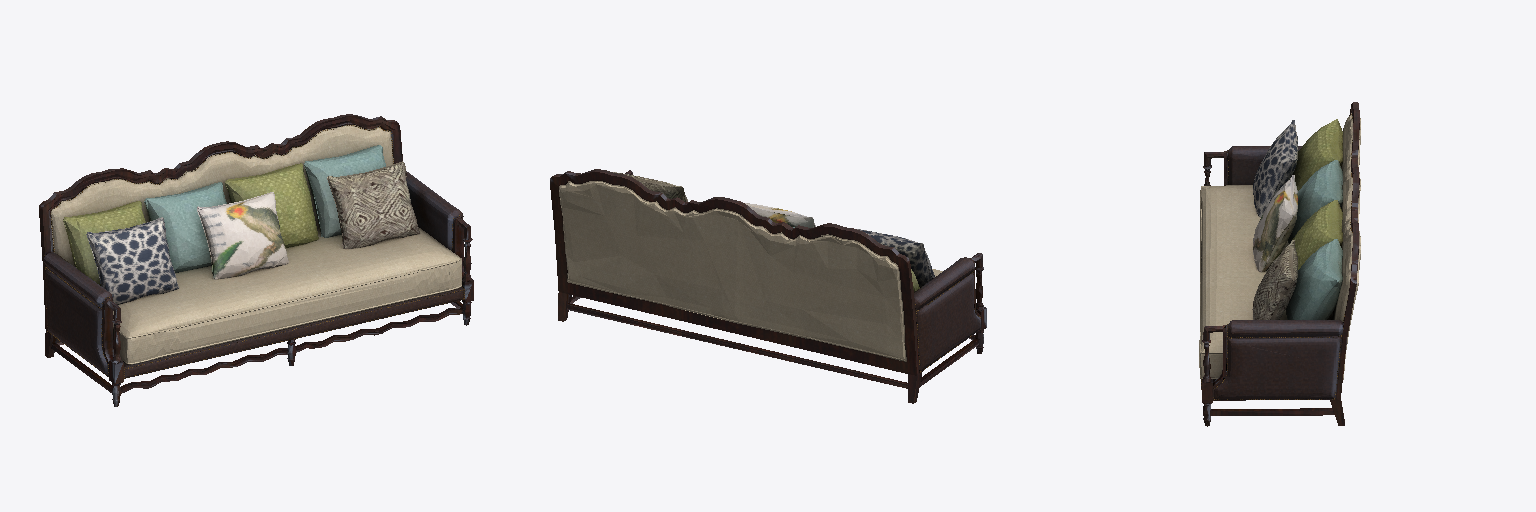
3 views of the same model, side by side, from view 1: azimuth 30°, elevation 25°; view 2: azimuth 150°, elevation 25°; view 3: azimuth 270°, elevation 25° (orthographic).
Parts seen in each view (by area): view 1: solid_001_wire; view 2: solid_001_wire; view 3: solid_001_wire.
Boxes of the visible parts, x1,y1,x2,y2 form: solid_001_wire: [39, 114, 473, 406]; solid_001_wire: [550, 169, 986, 403]; solid_001_wire: [1199, 102, 1360, 426].
Size of the model in its own units: 2.08 by 0.9147 by 0.7955.
1 materials, 1 textured.